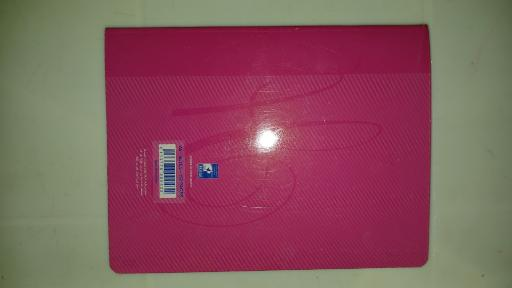notebook: (107, 24, 431, 273)
